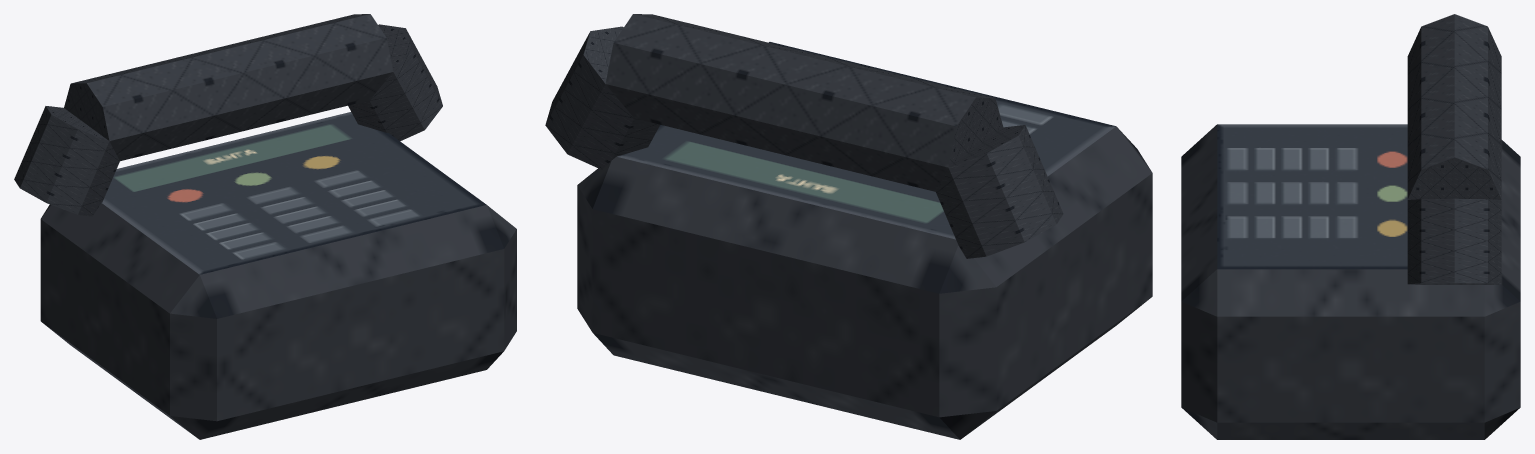
File: MD_119_DeskTelephone.fbx
3 views of the same model, side by side, from view 1: azimuth 30°, elevation 25°; view 2: azimuth 150°, elevation 25°; view 3: azimuth 270°, elevation 25° (orthographic). The views are drawn at different scales.
Visible parts, largest first — view 1: MD_119_DeskTelephone_phone_base, MD_119_DeskTelephone_handset_1, MD_119_DeskTelephone_handset_0, MD_119_DeskTelephone_handset_2; view 2: MD_119_DeskTelephone_phone_base, MD_119_DeskTelephone_handset_1, MD_119_DeskTelephone_handset_0, MD_119_DeskTelephone_handset_2; view 3: MD_119_DeskTelephone_phone_base, MD_119_DeskTelephone_handset_1, MD_119_DeskTelephone_handset_2.
Part boxes in pixels (left/top/right/bottom): MD_119_DeskTelephone_phone_base: left=40, top=112, right=516, bottom=439; MD_119_DeskTelephone_handset_1: left=64, top=14, right=393, bottom=161; MD_119_DeskTelephone_handset_0: left=14, top=106, right=119, bottom=216; MD_119_DeskTelephone_handset_2: left=348, top=24, right=442, bottom=141; MD_119_DeskTelephone_phone_base: left=577, top=42, right=1152, bottom=439; MD_119_DeskTelephone_handset_1: left=605, top=14, right=1003, bottom=191; MD_119_DeskTelephone_handset_0: left=936, top=125, right=1063, bottom=258; MD_119_DeskTelephone_handset_2: left=545, top=26, right=659, bottom=169; MD_119_DeskTelephone_phone_base: left=1181, top=124, right=1520, bottom=439; MD_119_DeskTelephone_handset_1: left=1407, top=14, right=1501, bottom=199; MD_119_DeskTelephone_handset_2: left=1407, top=198, right=1501, bottom=284.
Size of the model in its own units: 0.2647 by 0.165 by 0.18.
Materials: 2 (2 with a texture image).
